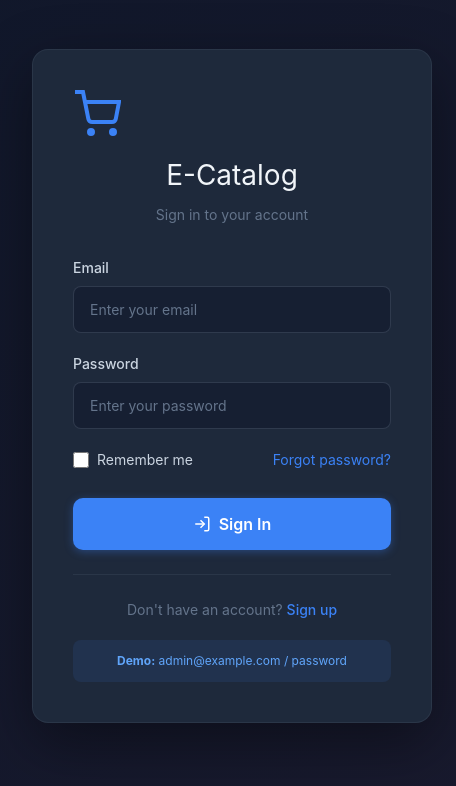
Test case: Authentication Flow Integration Tests › TC3: Form Validation › TC3.1: login should require all fields
Click the button "Sign In". click: click(232, 524)
box: top-left (73, 498), bottom-right (391, 550)
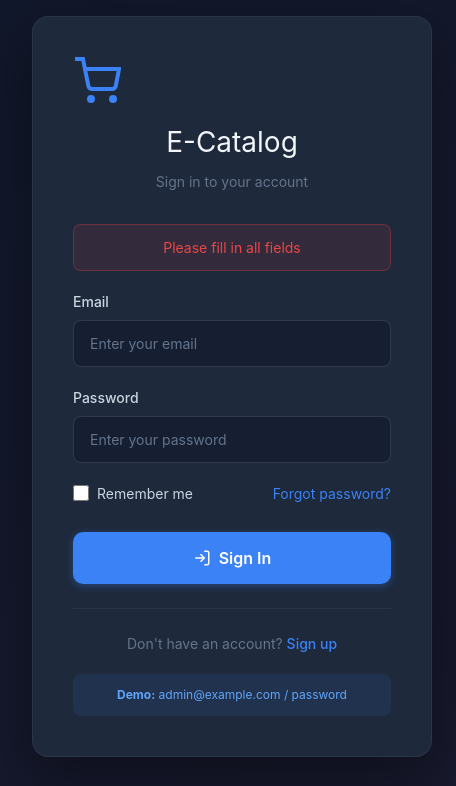
Check: the text "Please fill in all fields" is shown, box top-left (73, 224), bottom-right (391, 270)
